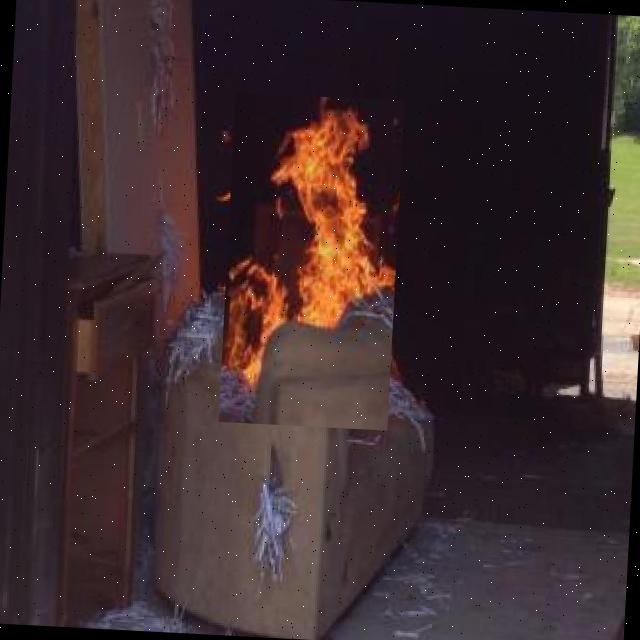fire: (218, 92, 404, 430)
